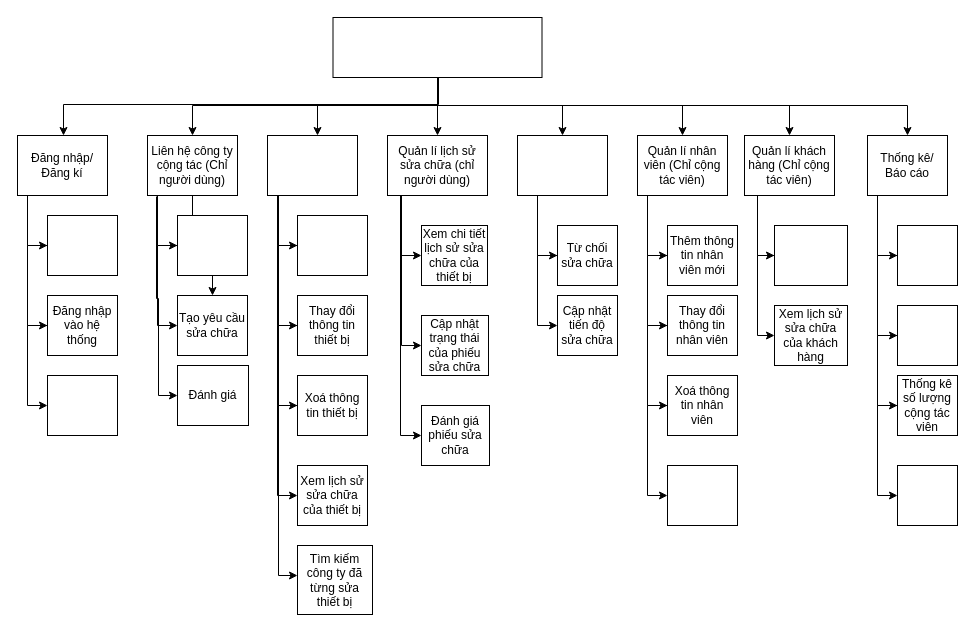
The diagram is 975 pixels wide and 632 high, and some of its shapes have lost their labels. Here are the shapes that lost their labels. From the top down, the centre of each, then its label:
At (437,47): "Nền tảng kết nối sửa chữa thiết bị IoT ONEHomeCare".
At (312,165): "Quản lí thiết bị (Chỉ người dùng)".
At (562,165): "Quản lí phiếu sửa chữa (Chỉ cộng tác viên)".
At (82,245): "Đăng kí tài khoản mới".
At (212,245): "Tìm kiếm công ty cộng tác".
At (332,245): "Thêm thông tin thiết bị mới".
At (811,255): "Xem thông tin khách hàng".
At (927,255): "Thống kê yêu cầu".
At (927,335): "Thống kê số lượng người dùng".
At (82,405): "Thay đổi mật khẩu".
At (702,495): "Xem lịch sử sửa chữa thiết bị của nhân viên".
At (927,495): "Thống kê số lượt truy cập".
